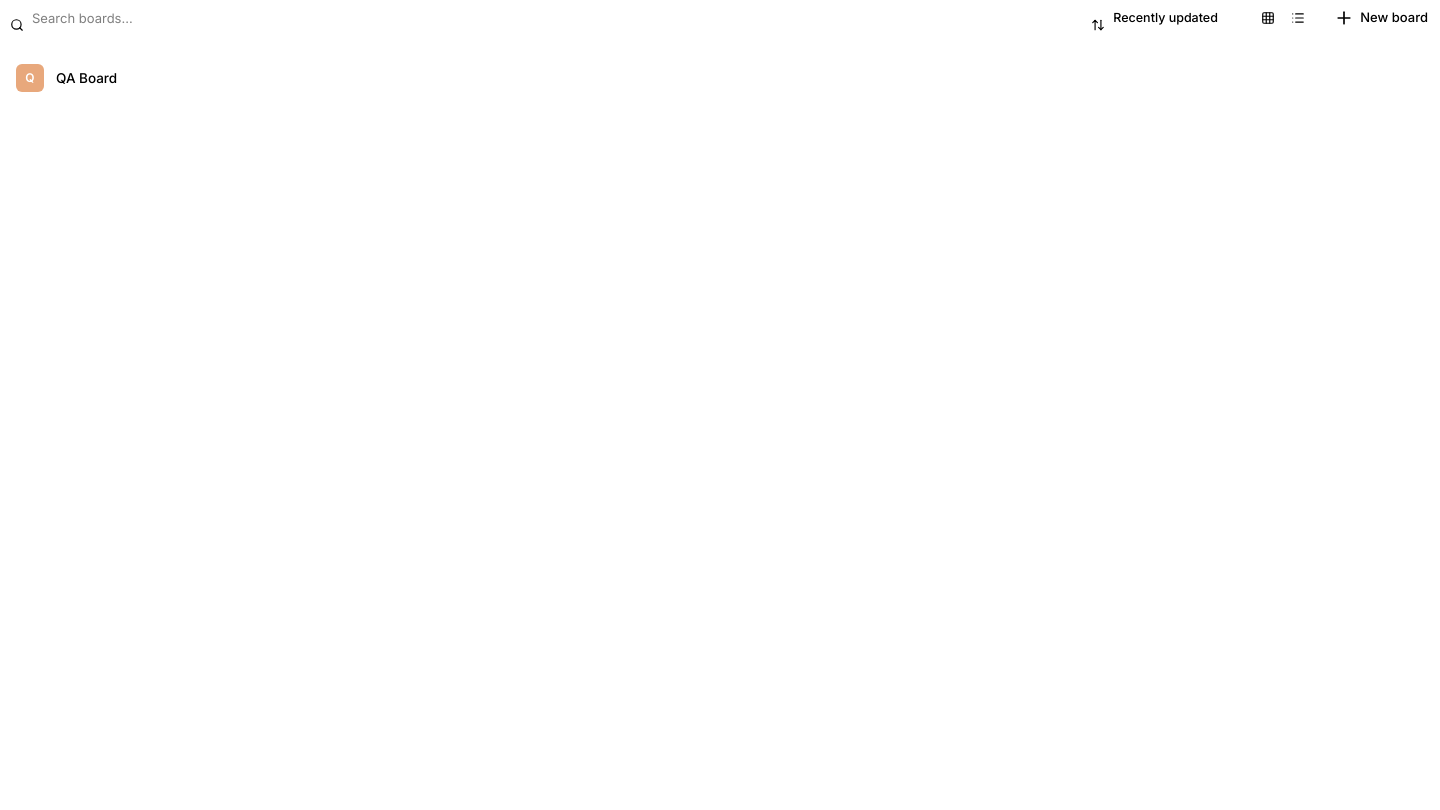
it: keeps board creation reachable in list
The width and height of the screenshot is (1440, 810).
Click the button "New board" at (1381,18), box [1322, 0, 1439, 36]
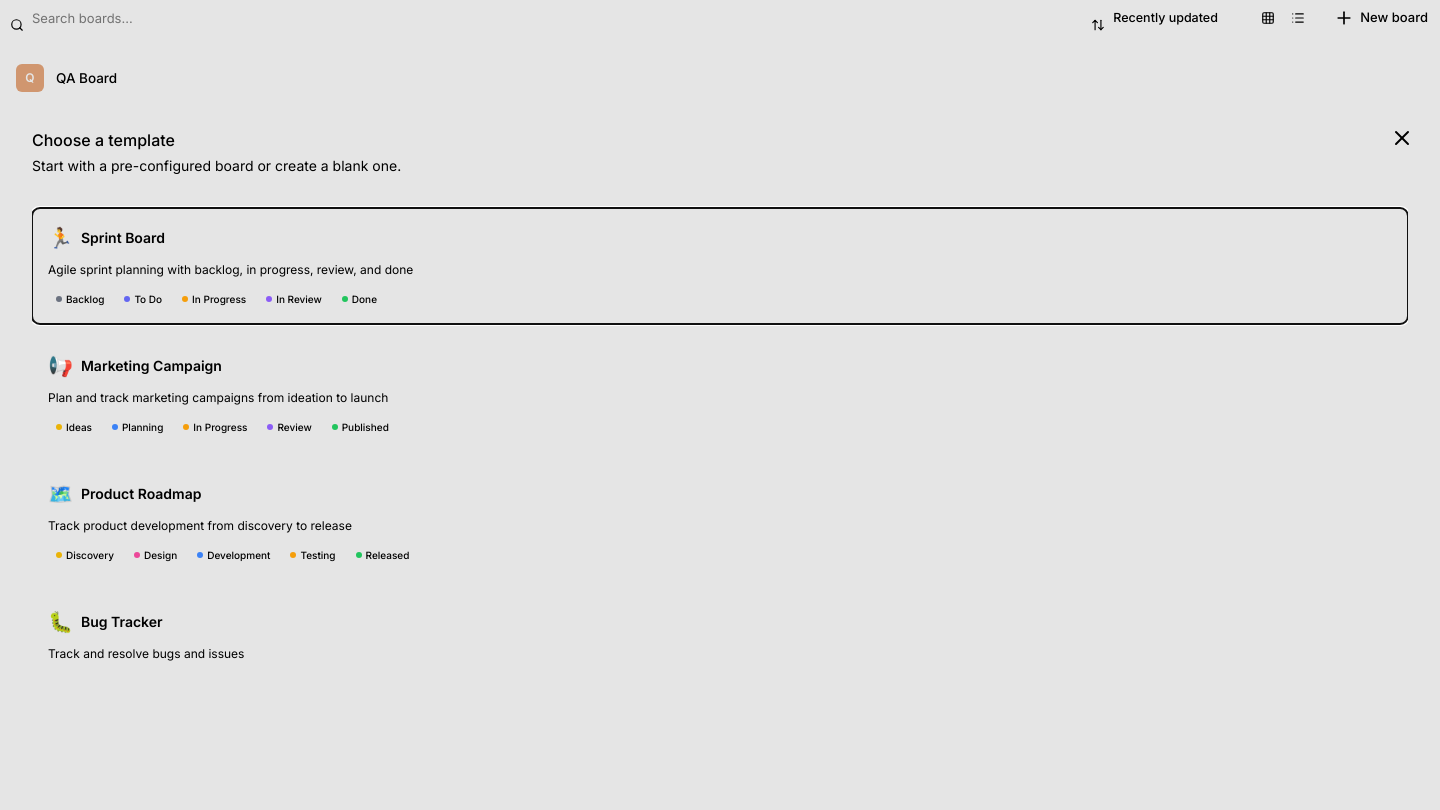
Result: the heading "Choose a template" is shown at [32, 130, 175, 150]
